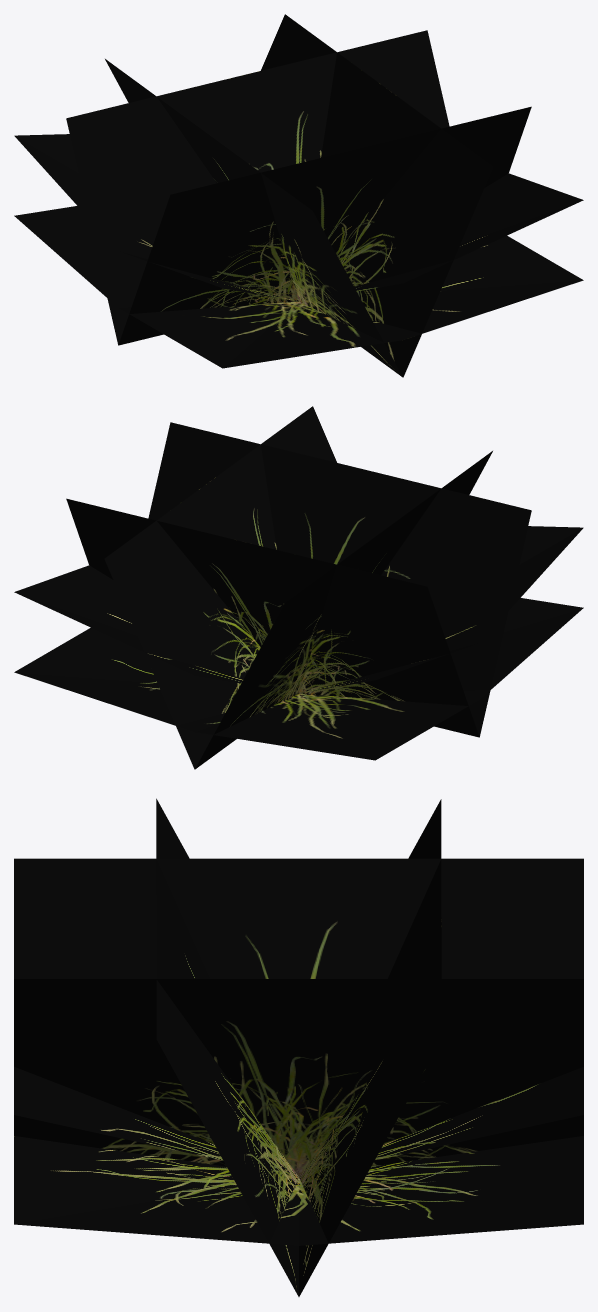
The model's file is grass01_large.fbx.
3 renders of one model, top to bottom at view 1: azimuth 30°, elevation 25°; view 2: azimuth 150°, elevation 25°; view 3: azimuth 270°, elevation 25°, orthographic. The views are drawn at different scales.
Visible parts, largest first — view 1: grass01_large; view 2: grass01_large; view 3: grass01_large.
Boxes of the visible parts, x1,y1,x2,y2 form: grass01_large: [14, 14, 583, 377]; grass01_large: [14, 406, 583, 769]; grass01_large: [14, 798, 583, 1296].
Bounding box in the file's own units: 200 × 100 × 200.
